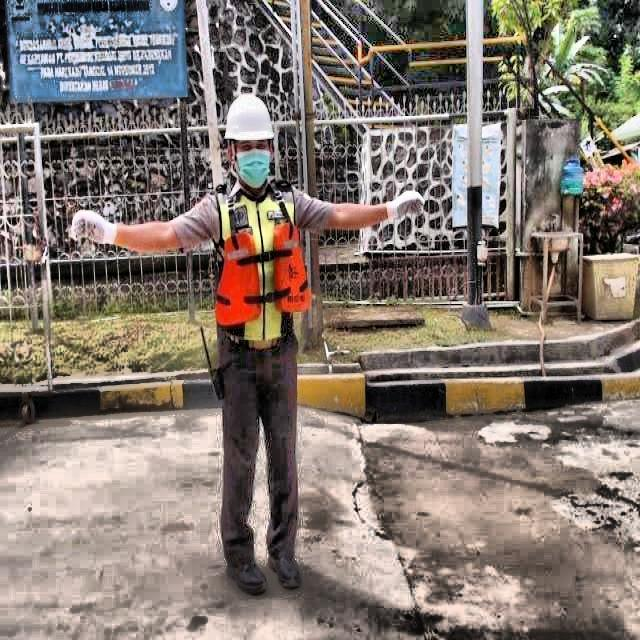safety_helmet: (223, 95, 277, 140)
safety_jacket: (210, 187, 313, 329)
